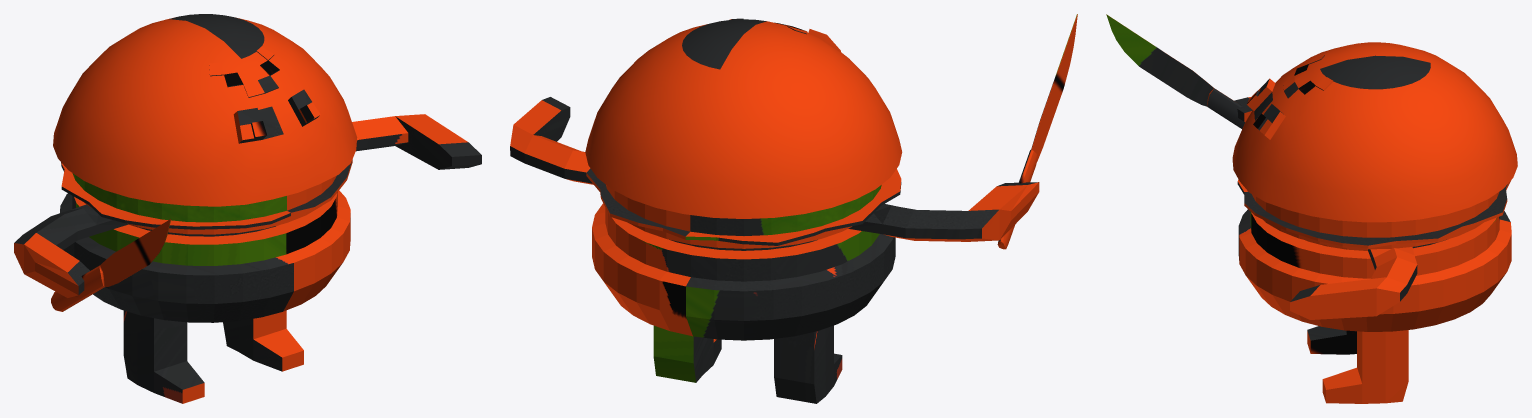
The model's file is HamburguezaEnemy.fbx.
3 views of the same model, side by side, from view 1: azimuth 30°, elevation 25°; view 2: azimuth 150°, elevation 25°; view 3: azimuth 270°, elevation 25° (orthographic). The views are drawn at different scales.
Visible parts, largest first — view 1: Hamburgueza001; view 2: Hamburgueza001; view 3: Hamburgueza001.
Part boxes in pixels (x1,y1,x2,y2): Hamburgueza001: (14, 14, 481, 403); Hamburgueza001: (510, 14, 1077, 403); Hamburgueza001: (1106, 14, 1517, 403).
Bounding box in the file's own units: 11.29 × 8.12 × 9.65.
